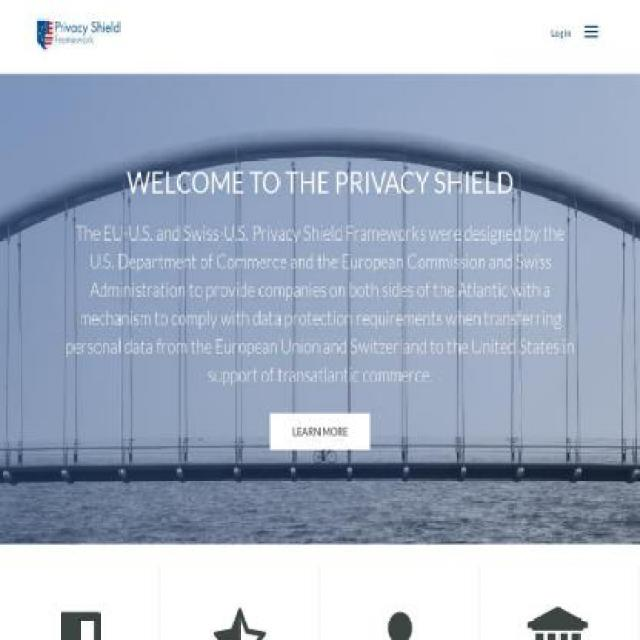button: (26, 18, 129, 54), (270, 413, 370, 450), (544, 22, 578, 44)
